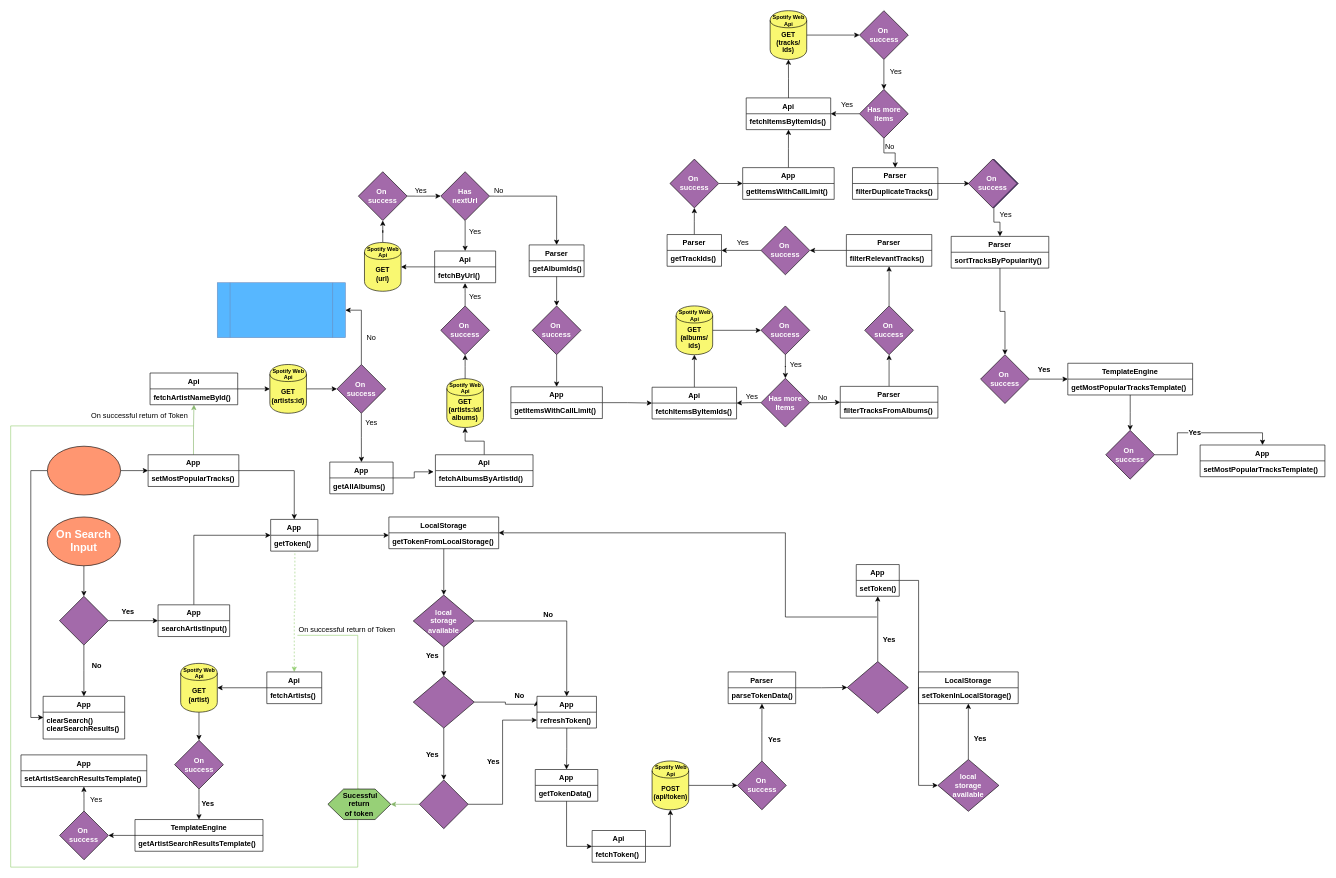
This 1336x878 diagram has some shape labels left out. Each missing label, with the centre of its shape:
"App setUserFeedback() Error Artist's information could not be loaded" belongs at (281,310).
"Empty Input" belongs at (83,620).
"is expired" belongs at (443,804).
"On Artist Select" belongs at (84,470).
"stored in local storage" belongs at (443,702).
"Token Data Complete" belongs at (877,687).
